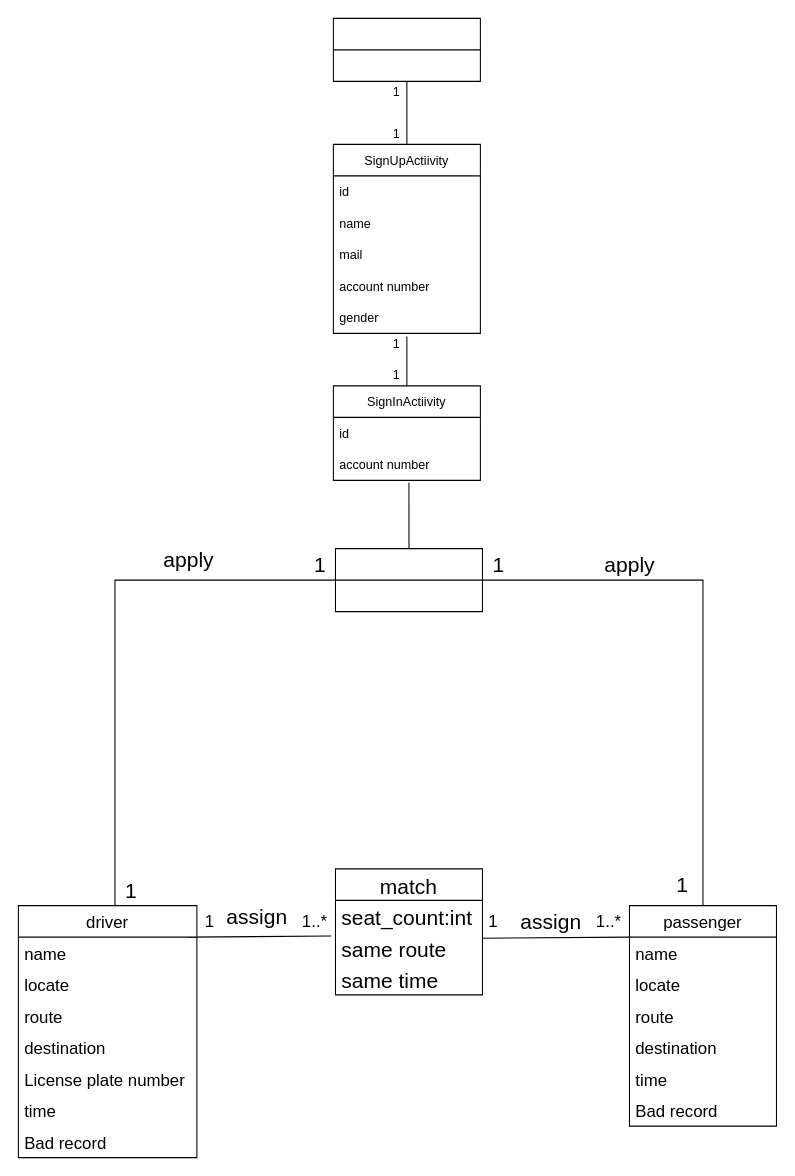
Image size: 795x1176. Some labels were removed from this diagram. Here are the shapes that lost their labels. From the top down, the centre of each, then its label:
At [406,49]: "user".
At [408,580]: "member".
